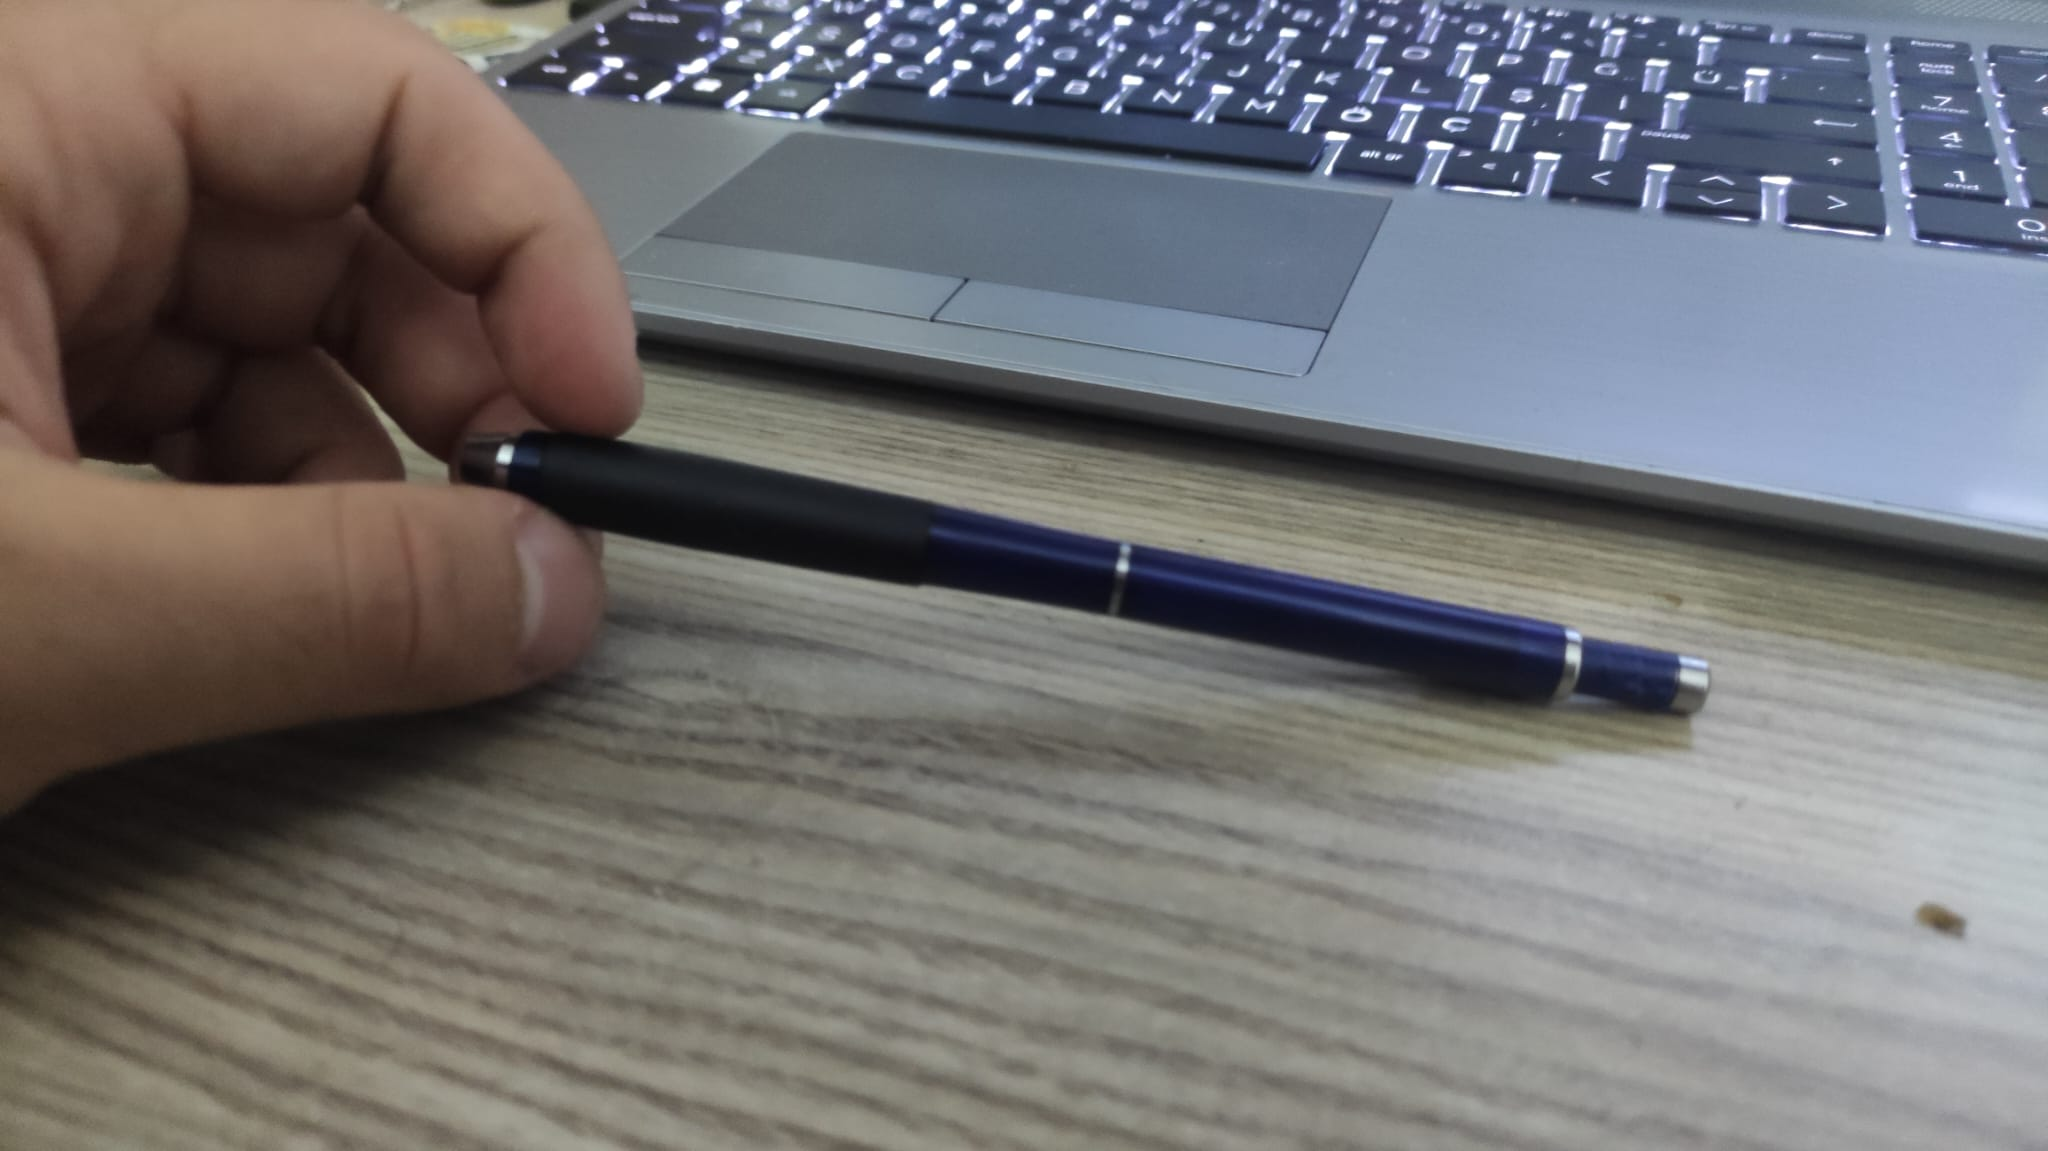kalem: (460, 414, 1712, 718)
